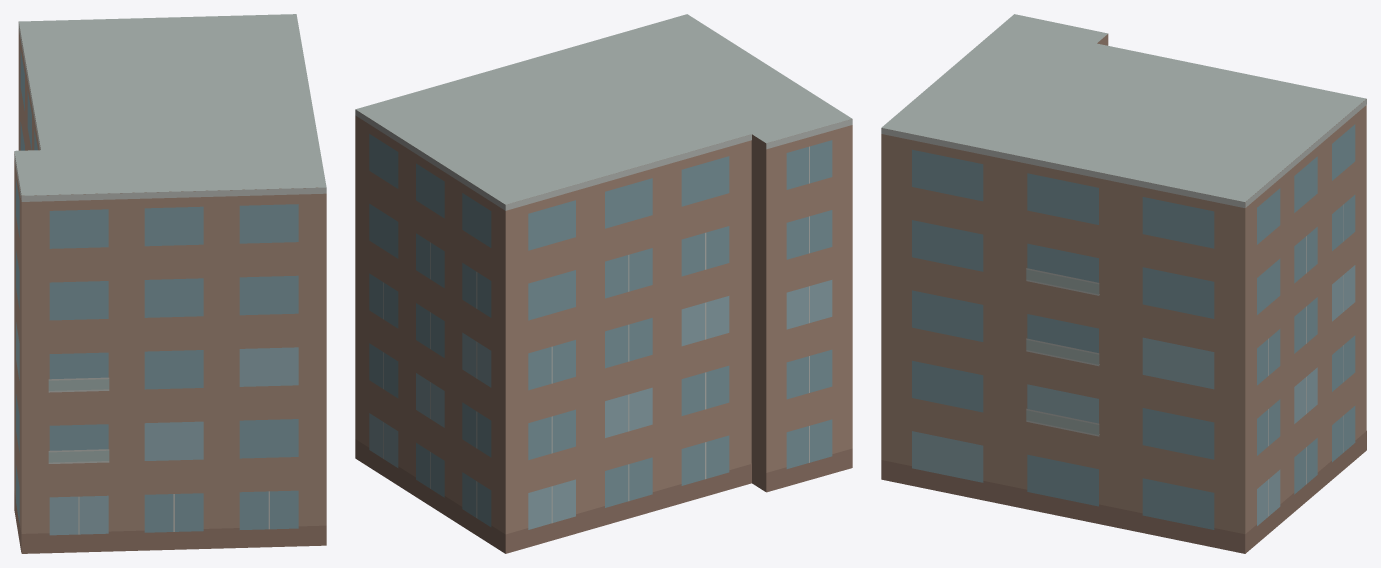
Rendered from survey-upis-32531332.glb.
3 views of the same model, side by side, from view 1: azimuth 30°, elevation 25°; view 2: azimuth 150°, elevation 25°; view 3: azimuth 270°, elevation 25° (orthographic). The views are drawn at different scales.
Parts seen in each view (by area): view 1: survey-upis-32531332.tmp; view 2: survey-upis-32531332.tmp; view 3: survey-upis-32531332.tmp.
Boxes of the visible parts, <box> form: survey-upis-32531332.tmp: <box>14,14,326,553</box>; survey-upis-32531332.tmp: <box>355,14,852,553</box>; survey-upis-32531332.tmp: <box>881,14,1366,553</box>.
Bounding box in the file's own units: 16.07 × 14 × 17.52.
